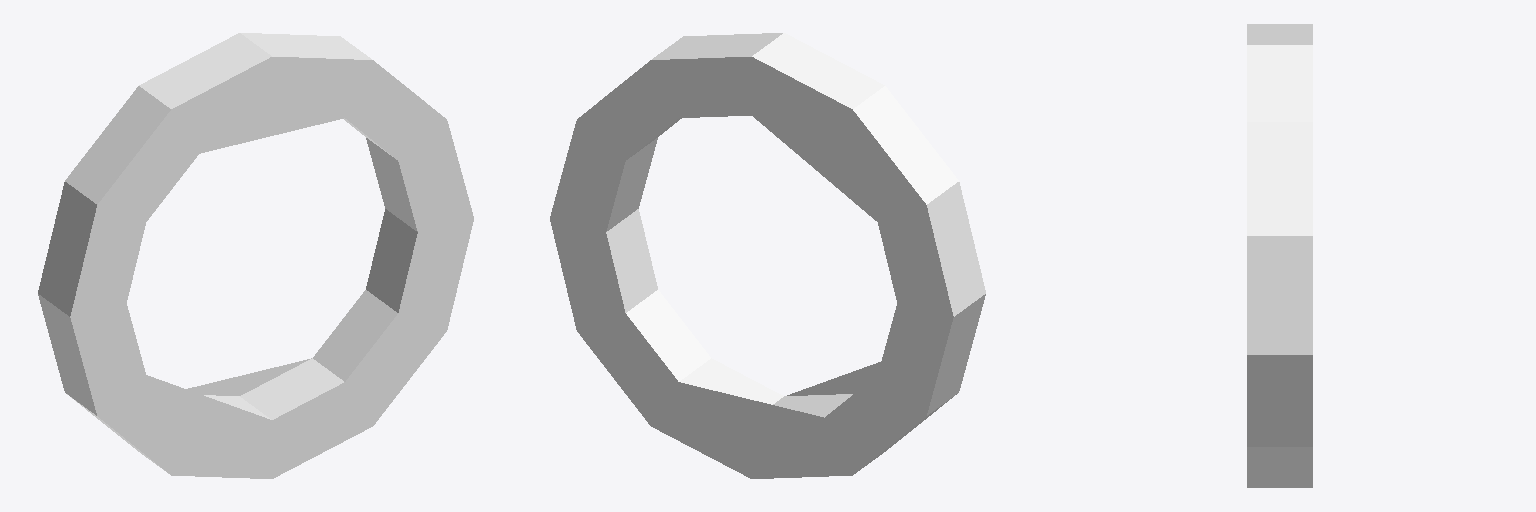
3 views of the same model, side by side, from view 1: azimuth 30°, elevation 25°; view 2: azimuth 150°, elevation 25°; view 3: azimuth 270°, elevation 25° (orthographic).
Parts seen in each view (by area): view 1: Layer_Model_Front; view 2: Layer_Model_Front; view 3: Layer_Model_Front.
Part boxes in pixels (x1,y1,x2,y2): Layer_Model_Front: (38,33,473,478); Layer_Model_Front: (550,33,985,478); Layer_Model_Front: (1247,24,1312,487).
Size of the model in its own units: 2.86 by 2.86 by 0.4.